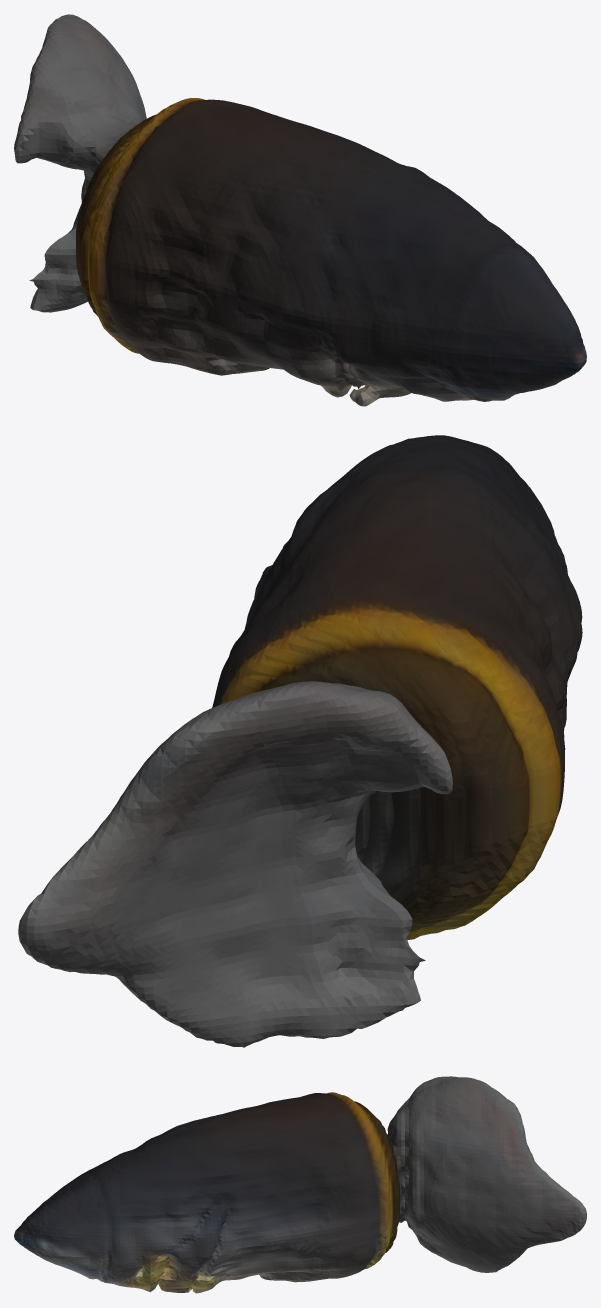
3 views of the same model, one above another, from view 1: azimuth 30°, elevation 25°; view 2: azimuth 150°, elevation 25°; view 3: azimuth 270°, elevation 25° (orthographic). The views are drawn at different scales.
Bounding box in the file's own units: 0.4345 × 0.3602 × 1.03.
